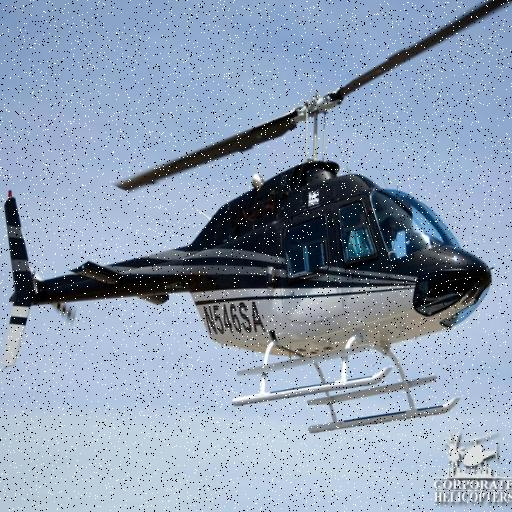helicopter: (1, 1, 512, 431)
